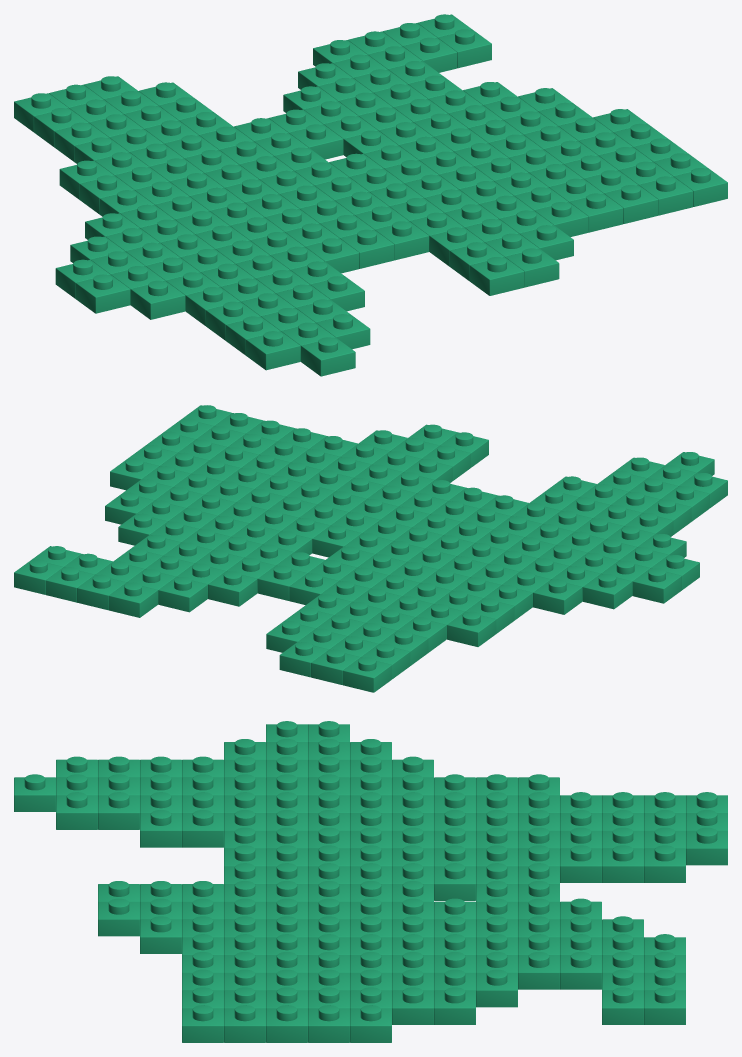
The model's file is SouthernEurope.fbx.
The picture shows the model from 3 angles, top to bottom: view 1: azimuth 30°, elevation 25°; view 2: azimuth 150°, elevation 25°; view 3: azimuth 270°, elevation 25°; orthographic projection. The views are drawn at different scales.
Parts seen in each view (by area): view 1: Cylinder_83; view 2: Cylinder_83; view 3: Cylinder_83.
Boxes of the visible parts, left/top/right/bottom form: Cylinder_83: left=14, top=14, right=727, bottom=376; Cylinder_83: left=14, top=405, right=727, bottom=692; Cylinder_83: left=14, top=721, right=727, bottom=1042.
Bounding box in the file's own units: 1700 × 65.03 × 1700.
